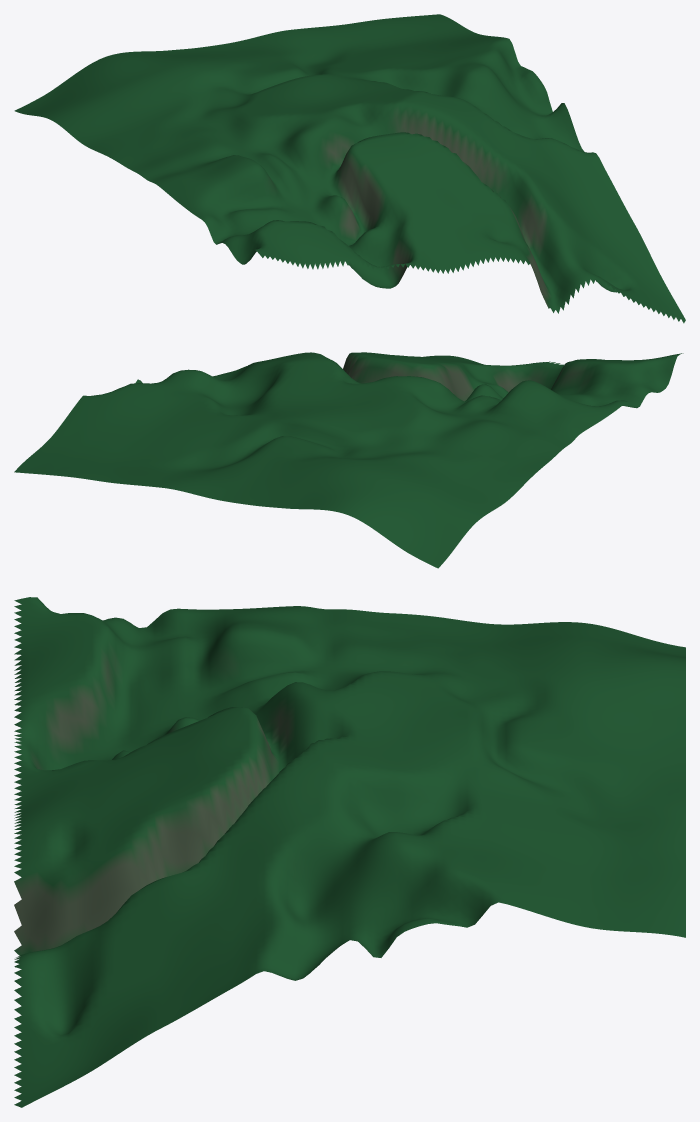
The model's file is payo_land_x0_ym2.glb.
3 renders of one model, top to bottom at view 1: azimuth 30°, elevation 25°; view 2: azimuth 150°, elevation 25°; view 3: azimuth 270°, elevation 25°, orthographic. The views are drawn at different scales.
Parts seen in each view (by area): view 1: payo_land_x0_ym2; view 2: payo_land_x0_ym2; view 3: payo_land_x0_ym2.
Part boxes in pixels (x1,y1,x2,y2): payo_land_x0_ym2: [14, 14, 685, 323]; payo_land_x0_ym2: [14, 352, 683, 568]; payo_land_x0_ym2: [14, 597, 685, 1107].
Bounding box in the file's own units: 255 × 104 × 258.
